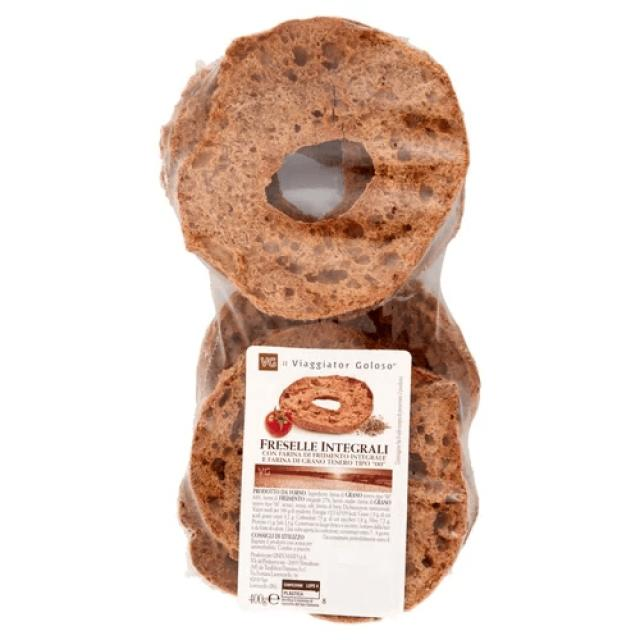bread: (159, 17, 483, 622)
